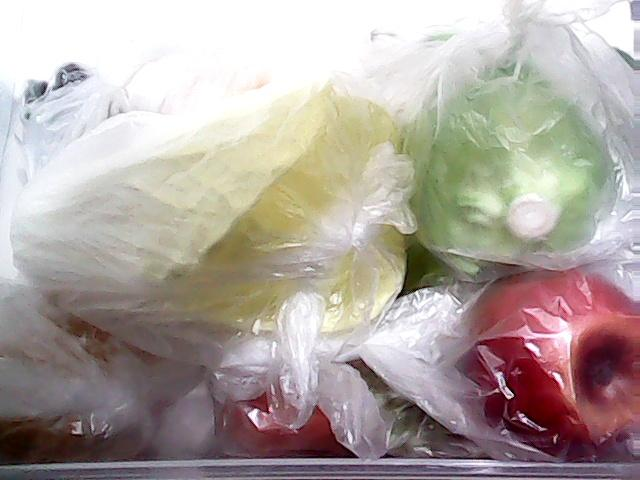apple: (436, 248, 640, 448)
cabbage: (400, 38, 620, 262)
grape: (366, 374, 470, 464), (16, 57, 110, 133)
napa cabbage: (10, 63, 476, 348)
peach: (207, 324, 373, 460)
potato: (1, 302, 179, 464)
